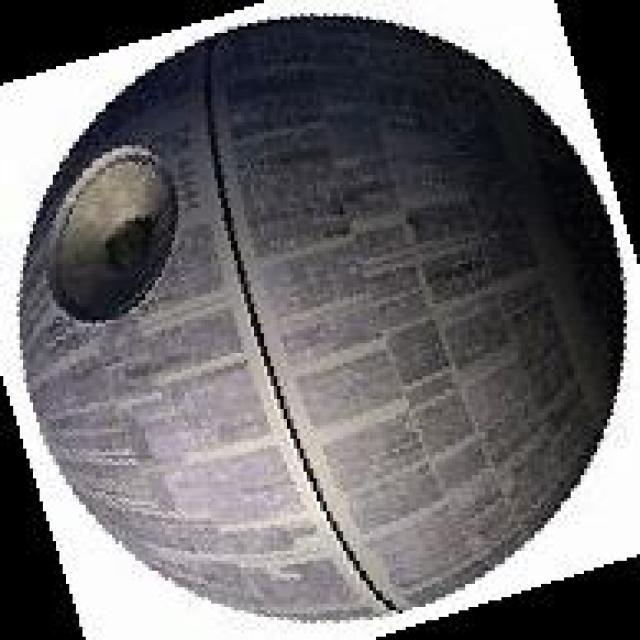Death Star: (36, 25, 601, 619)
